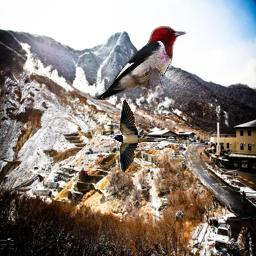Swallow: (112, 98, 168, 174)
Woodpecker: (91, 25, 189, 100)
